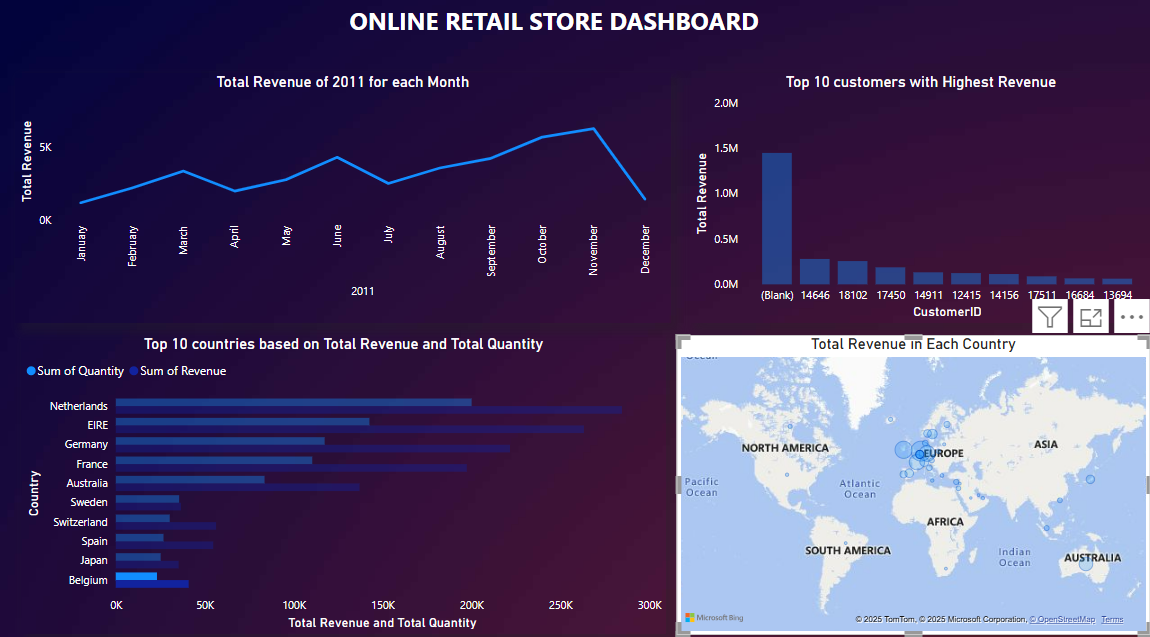

This screenshot's page, from the dashboard's own definition file:
{"tool":"powerbi","page":{"name":"Page 1","canvas":[1280,720],"ordinal":0},"visuals":[{"type":"textbox","box":[383,0,659.6,85.8],"z":0},{"type":"lineChart","title":"Total Revenue of 2011 for each Month","fields":{"Y":["Sum(Online Retail.Revenue)"],"Category":["Online Retail.InvoiceDate.Variation.Date Hierarchy.Year","Online Retail.InvoiceDate.Variation.Date Hierarchy.Month"]},"box":[16.7,81.7,728.3,278.3],"z":1000},{"type":"clusteredBarChart","title":"Top 10 countries based on Total Revenue and Total Quantity","fields":{"Category":["Online Retail.Country"],"Y":["Sum(Online Retail.Quantity)","Sum(Online Retail.Revenue)"]},"box":[23.3,373.3,716.7,331.7],"z":2000},{"type":"columnChart","title":"Top 10 customers with Highest Revenue","fields":{"Y":["Sum(Online Retail.Revenue)"],"Category":["Online Retail.CustomerID"]},"box":[766.7,81.7,513.3,278.3],"z":3000},{"type":"map","title":"Total Revenue in Each Country","fields":{"Category":["Online Retail.Country"],"Size":["Sum(Online Retail.Quantity)"]},"box":[751.7,373.3,526.7,333.3],"z":4000}]}

Visuals, with their boxes in screenshot pixels (x1, y1, x2, y2), scaled from the page's 1280x720 canvas onto the 1150x637 screenshot:
textbox: [left=344, top=0, right=937, bottom=76]
"Total Revenue of 2011 for each Month" lineChart: [left=15, top=72, right=669, bottom=318]
"Top 10 countries based on Total Revenue and Total Quantity" clusteredBarChart: [left=21, top=330, right=665, bottom=624]
"Top 10 customers with Highest Revenue" columnChart: [left=689, top=72, right=1149, bottom=318]
"Total Revenue in Each Country" map: [left=675, top=330, right=1149, bottom=625]
